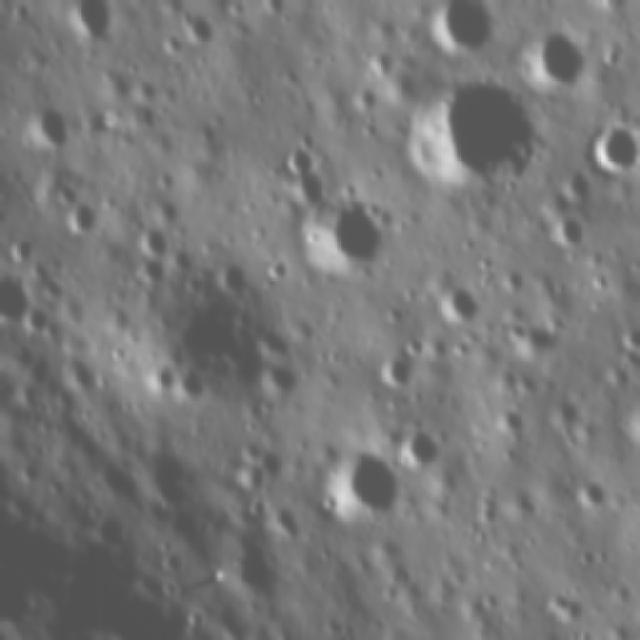crater: (406, 83, 529, 186), (299, 197, 393, 266), (324, 449, 390, 522), (514, 26, 584, 92), (430, 0, 493, 55), (48, 175, 88, 247), (27, 100, 75, 152), (584, 125, 638, 170), (171, 7, 220, 51), (369, 353, 418, 395), (61, 0, 116, 37), (0, 267, 31, 327), (438, 277, 476, 323), (405, 422, 440, 464), (137, 227, 178, 262), (274, 145, 314, 178), (552, 220, 590, 245), (574, 481, 601, 512), (617, 320, 640, 354), (151, 364, 177, 394), (264, 250, 288, 281), (105, 339, 129, 367), (587, 267, 607, 291), (591, 0, 623, 14)
